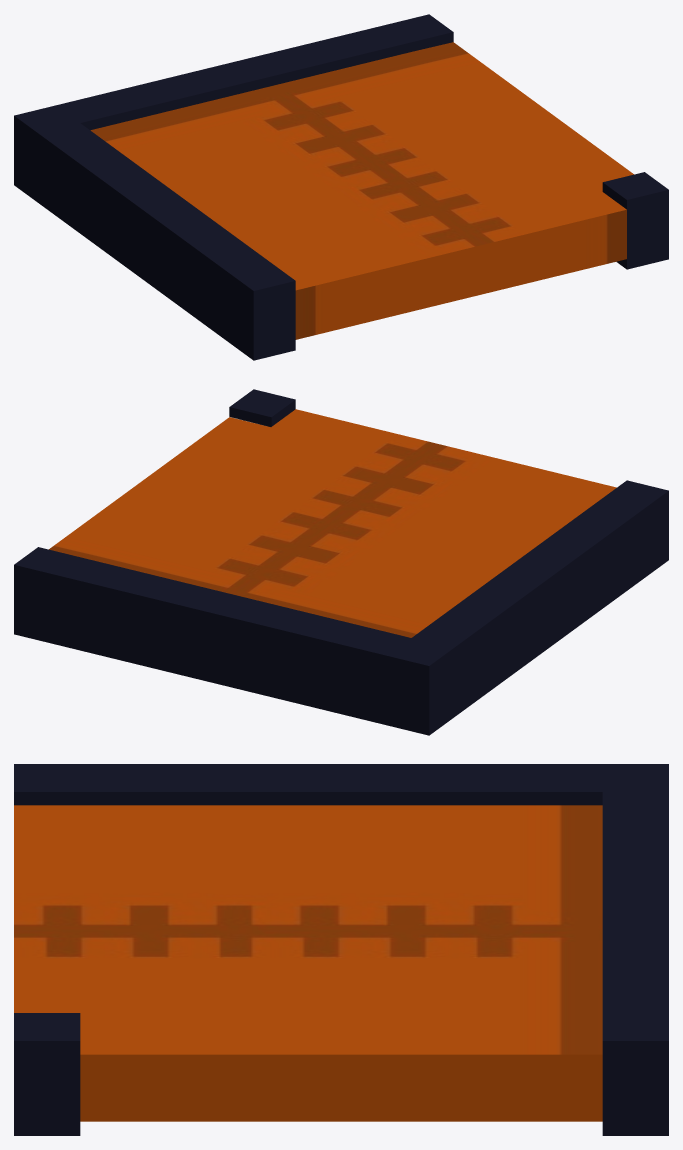
File: conveyorCorner.fbx
3 renders of one model, top to bottom at view 1: azimuth 30°, elevation 25°; view 2: azimuth 150°, elevation 25°; view 3: azimuth 270°, elevation 25°, orthographic. The views are drawn at different scales.
Visible parts, largest first — view 1: ConveyorCorner; view 2: ConveyorCorner; view 3: ConveyorCorner.
Boxes of the visible parts, bbox=[...] form: ConveyorCorner: bbox=[14, 14, 668, 360]; ConveyorCorner: bbox=[14, 389, 668, 735]; ConveyorCorner: bbox=[14, 764, 668, 1135].
Size of the model in its own units: 5.39 by 0.8636 by 5.39.
